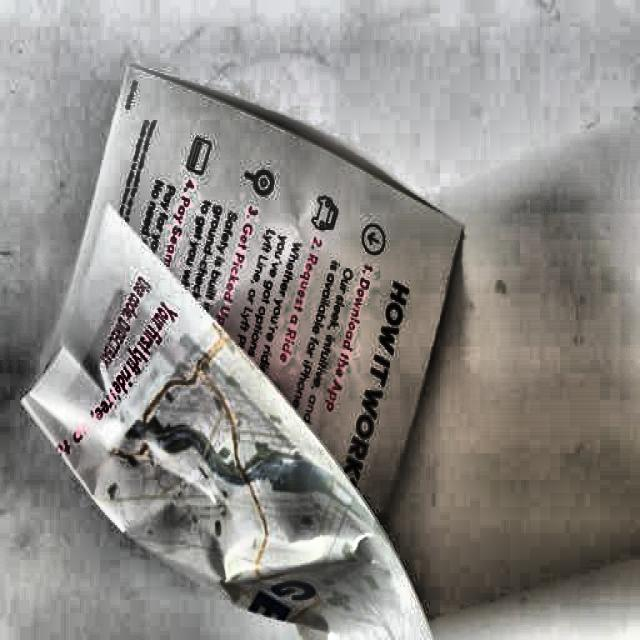paper: (27, 63, 464, 640)
